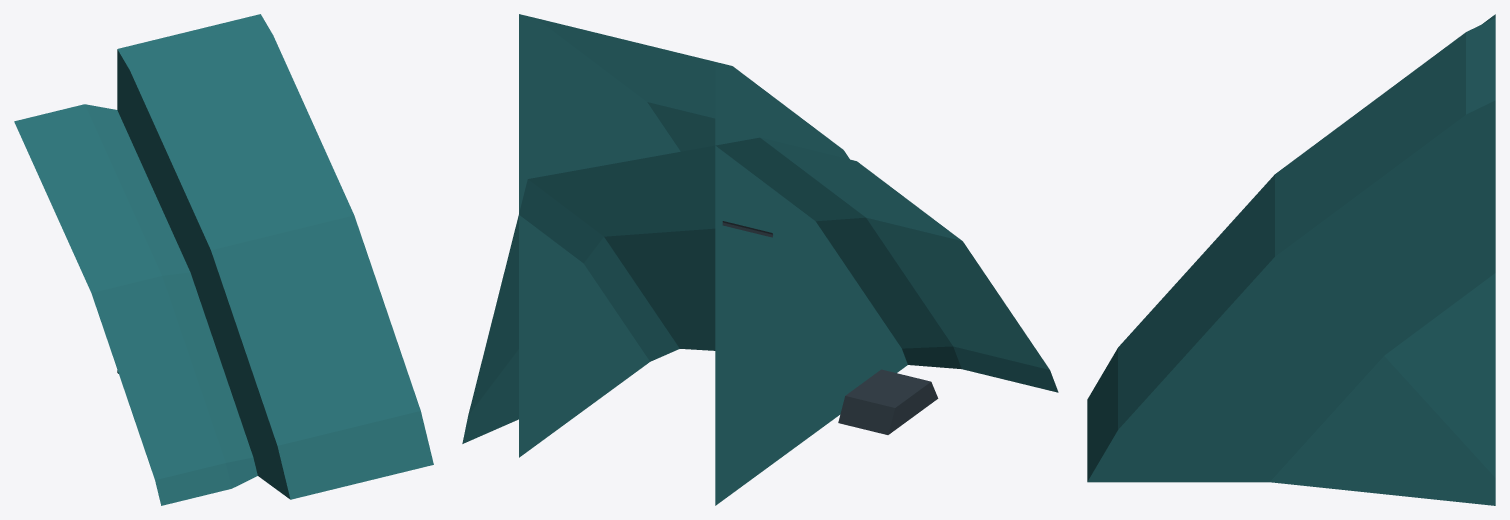
Rendered from cell_58.obj.
3 renders of one model, left to right at view 1: azimuth 30°, elevation 25°; view 2: azimuth 150°, elevation 25°; view 3: azimuth 270°, elevation 25°, orthographic. The views are drawn at different scales.
Bounding box in the file's own units: 0.2921 × 0.3141 × 0.3044.
